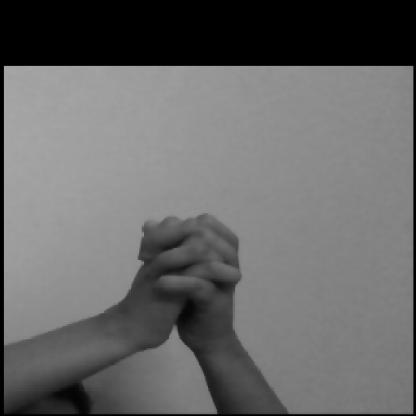prayer: (75, 194, 306, 359)
